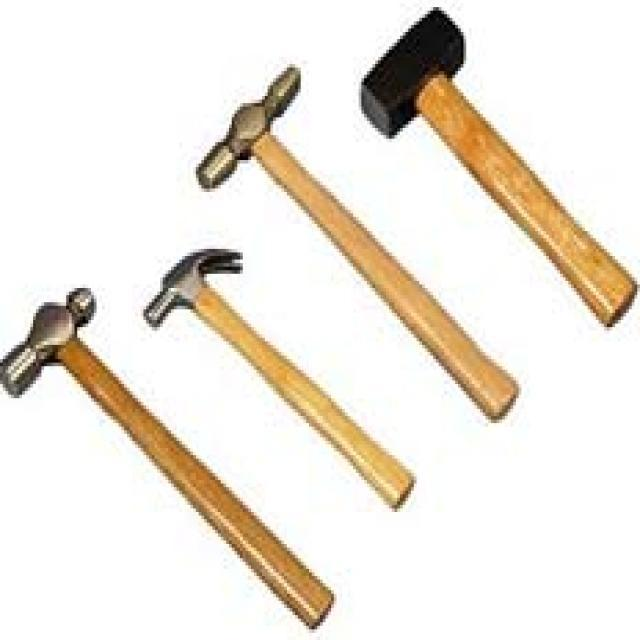hammer: (189, 50, 536, 434), (0, 274, 334, 640), (347, 0, 640, 345), (135, 238, 419, 525)
